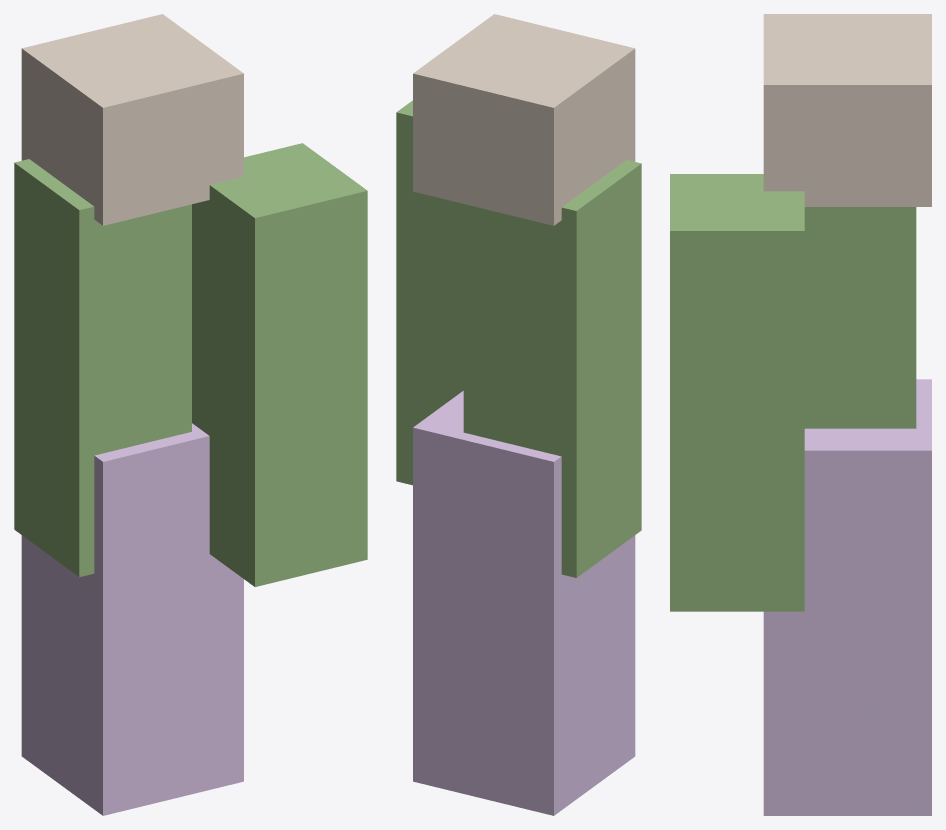
File: Item_Herb_AMF_Ironfang_Bundle1.glb
3 views of the same model, side by side, from view 1: azimuth 30°, elevation 25°; view 2: azimuth 150°, elevation 25°; view 3: azimuth 270°, elevation 25° (orthographic). The views are drawn at different scales.
Parts seen in each view (by area): view 1: Item_Herb_AMF_Ironfang_Bundle1; view 2: Item_Herb_AMF_Ironfang_Bundle1; view 3: Item_Herb_AMF_Ironfang_Bundle1.
Boxes of the visible parts, x1,y1,x2,y2 form: Item_Herb_AMF_Ironfang_Bundle1: [14, 14, 367, 815]; Item_Herb_AMF_Ironfang_Bundle1: [396, 14, 641, 815]; Item_Herb_AMF_Ironfang_Bundle1: [670, 14, 931, 815].
Size of the model in its own units: 0.0831 by 0.24 by 0.0779.
